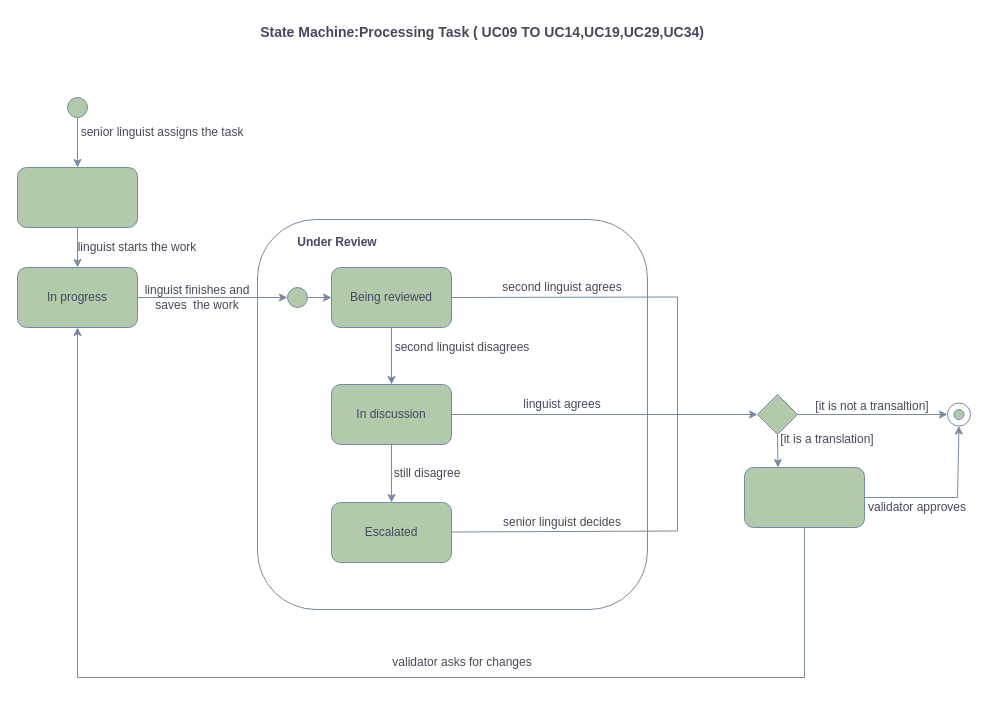
The diagram is 995 pixels wide and 703 high, and some of its shapes have lost their labels. Each missing label, with the box of its shape:
Assigned: (16, 166, 138, 228)
In community validation: (744, 466, 864, 528)
